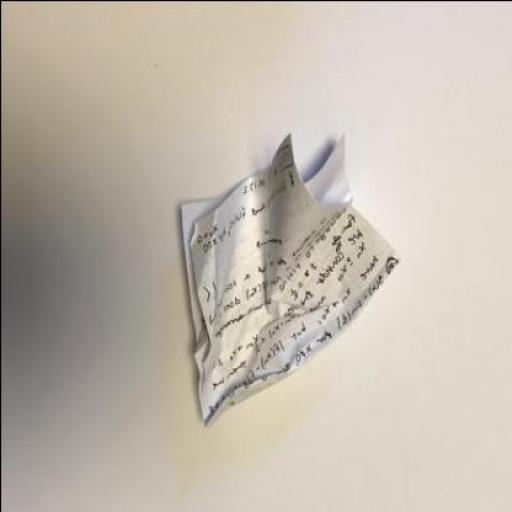paper: (179, 128, 402, 427)
